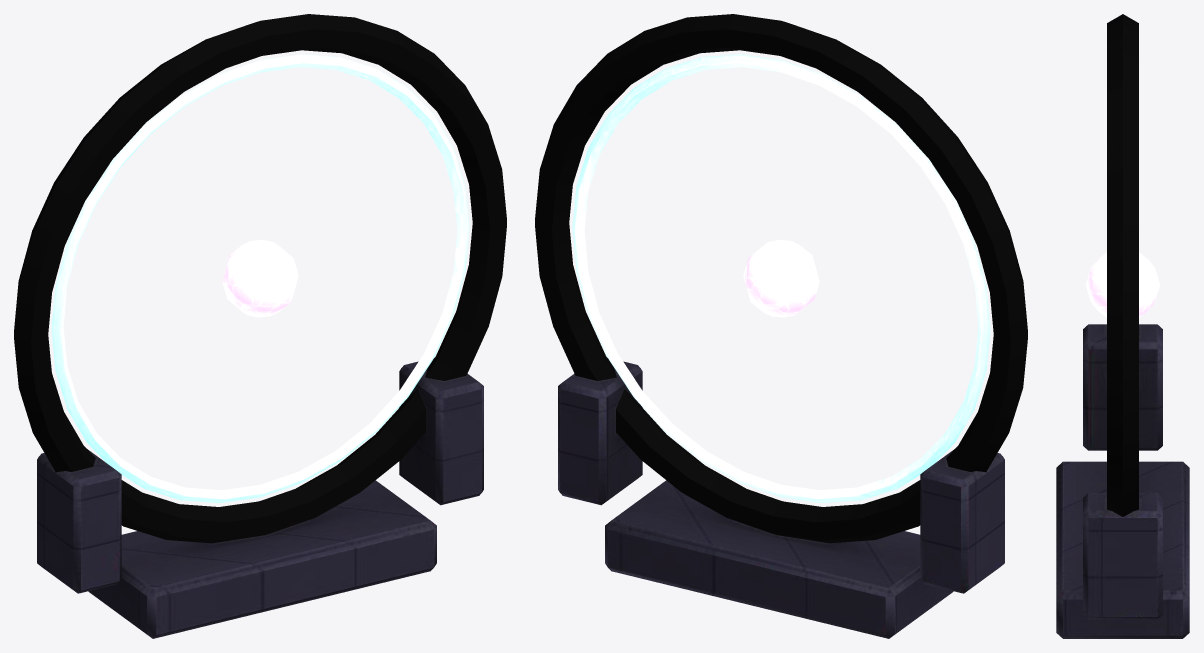
File: anel_dados.glb
The picture shows the model from 3 angles, left to right: view 1: azimuth 30°, elevation 25°; view 2: azimuth 150°, elevation 25°; view 3: azimuth 270°, elevation 25°; orthographic projection. The views are drawn at different scales.
Visible parts, largest first — view 1: anel_dados; view 2: anel_dados; view 3: anel_dados.
Boxes of the visible parts, box(x1,y1,x2,y2) form: anel_dados: box(14, 14, 506, 638); anel_dados: box(535, 14, 1027, 638); anel_dados: box(1056, 14, 1189, 638).
Bounding box in the file's own units: 4.08 × 4.44 × 1.
1 material, 1 textured.
